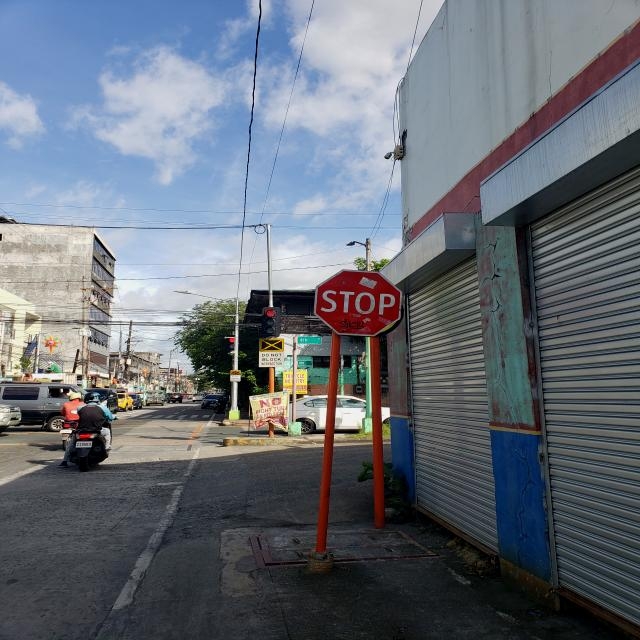stop-sign: (314, 268, 402, 336)
